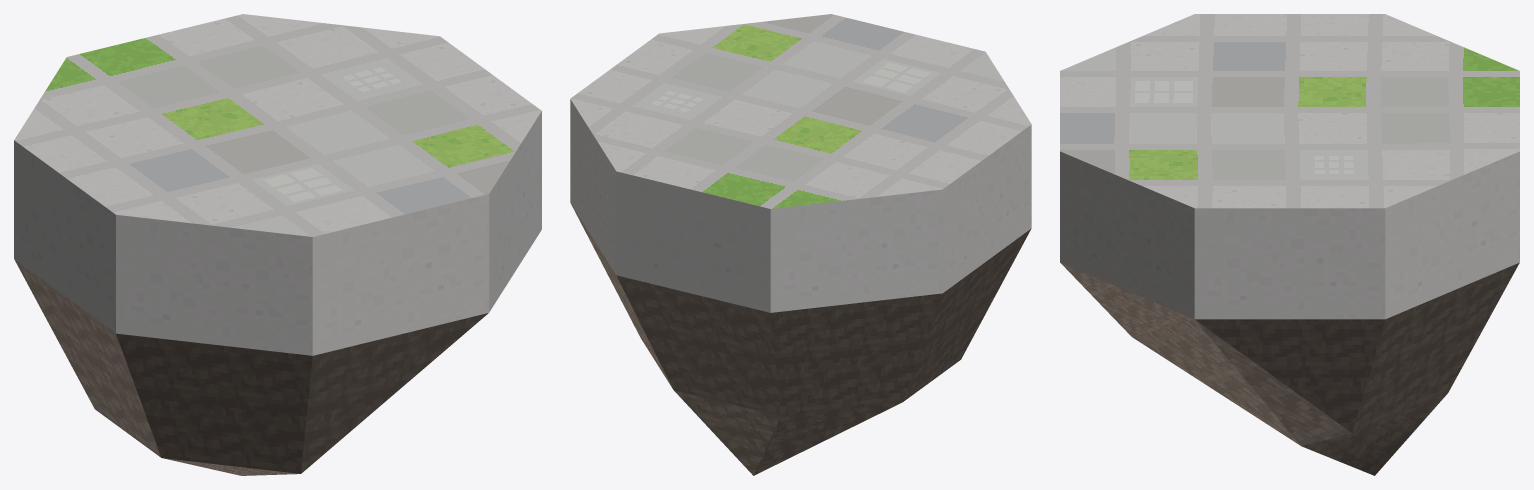
The model's file is 03a0_Nagisa_Island.glb.
3 views of the same model, side by side, from view 1: azimuth 30°, elevation 25°; view 2: azimuth 150°, elevation 25°; view 3: azimuth 270°, elevation 25° (orthographic). The views are drawn at different scales.
Parts seen in each view (by area): view 1: part_0; view 2: part_0; view 3: part_0.
Part boxes in pixels (box(x1,y1,x2,y2)): part_0: box(14, 14, 541, 475); part_0: box(570, 14, 1031, 475); part_0: box(1060, 14, 1519, 475).
Size of the model in its own units: 138 by 119 by 138.
1 material, 1 textured.
